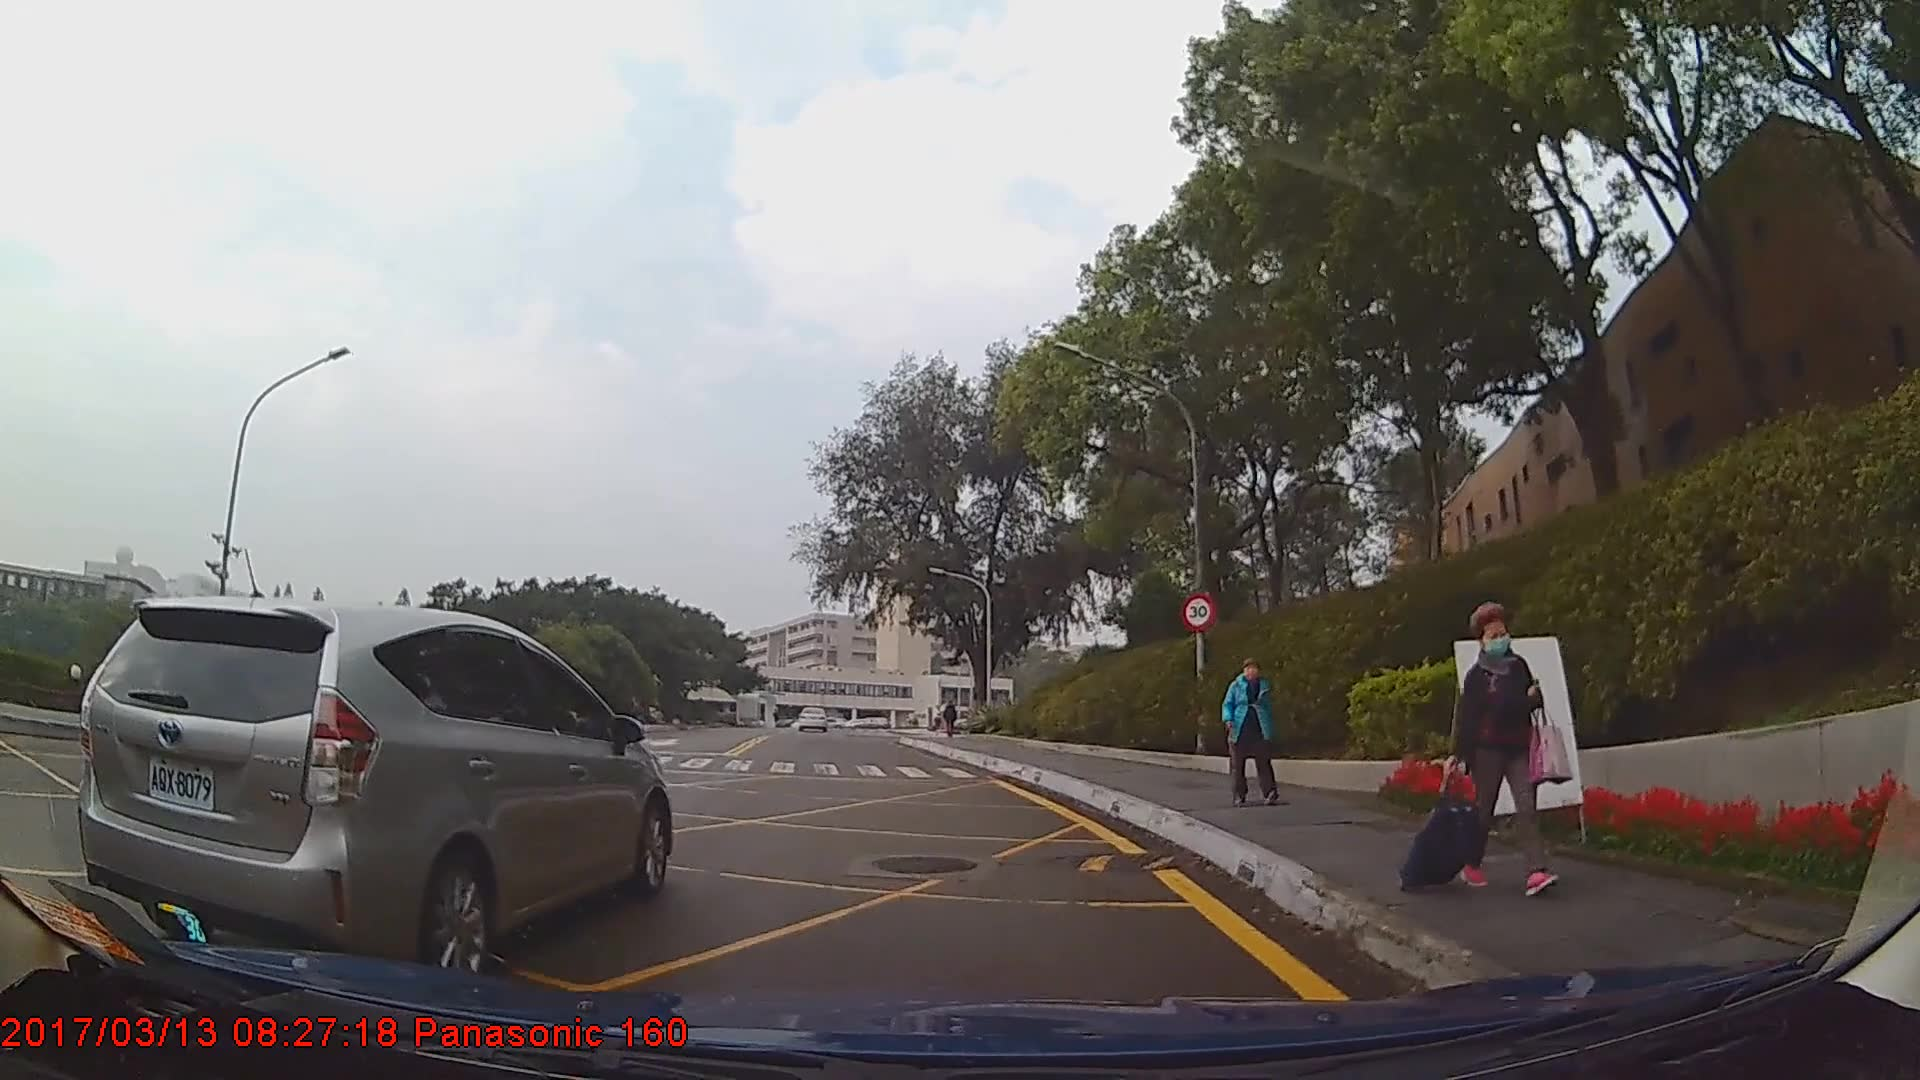pedestrian: (1393, 602, 1575, 903), (1221, 659, 1281, 808)
vehicle: (76, 594, 673, 977), (795, 707, 829, 734)
